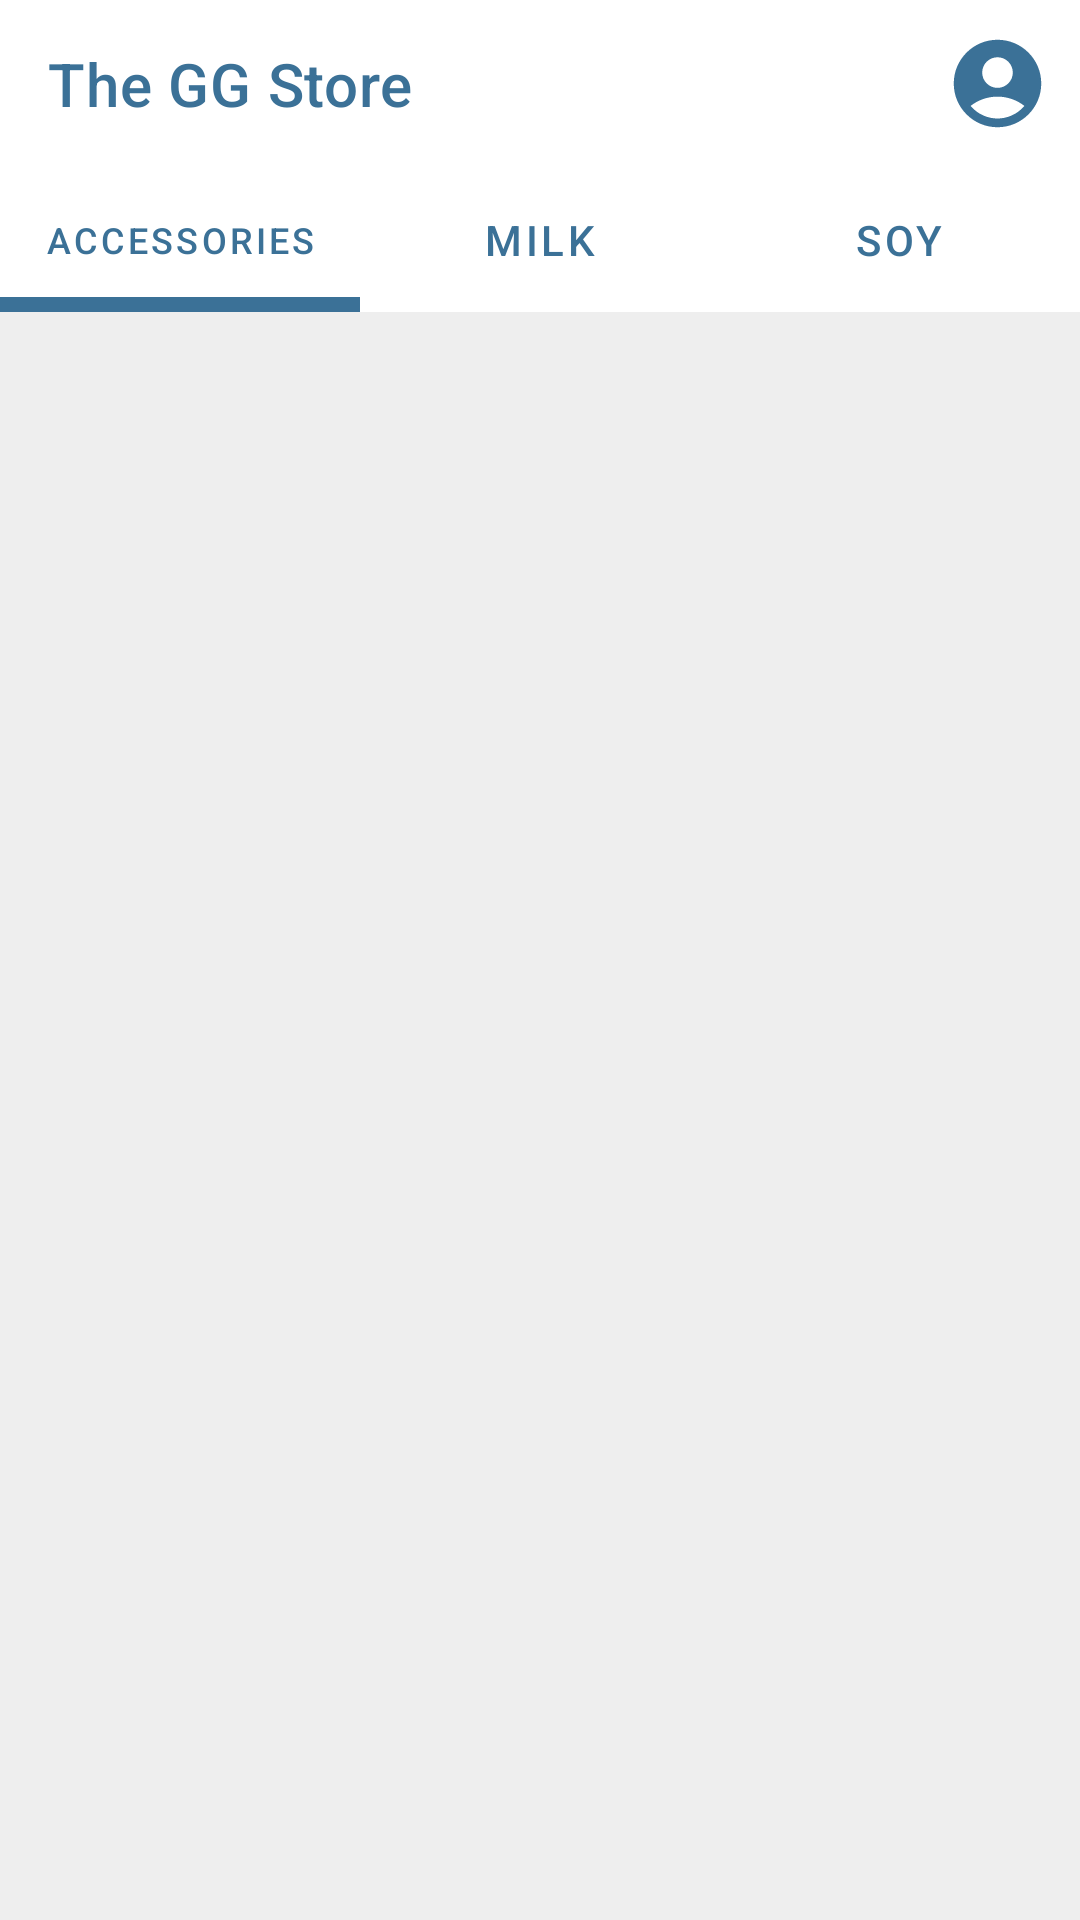

Screen size 1080*1920. Icon name, then its center in pixels as point (x, y):
account circle: point (997, 83)
